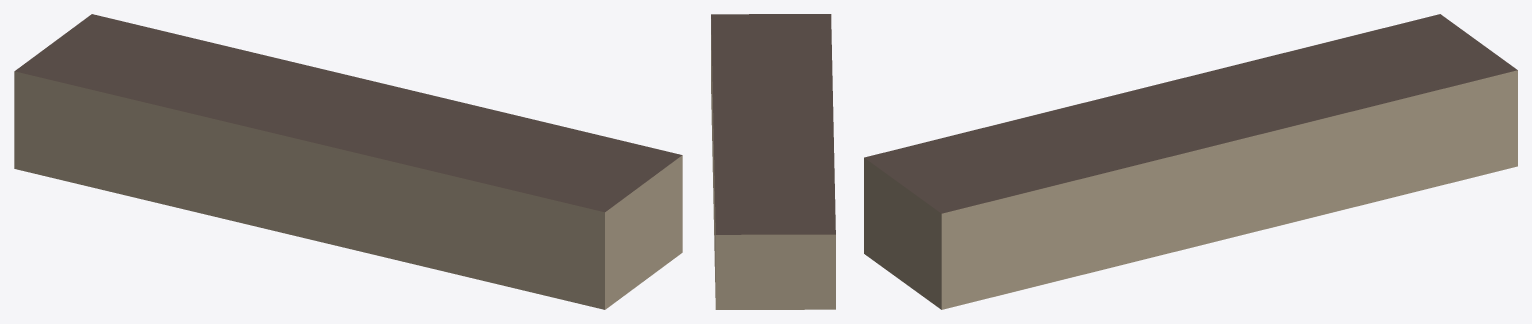
3 views of the same model, side by side, from view 1: azimuth 30°, elevation 25°; view 2: azimuth 150°, elevation 25°; view 3: azimuth 270°, elevation 25° (orthographic). The views are drawn at different scales.
Parts seen in each view (by area): view 1: HP-w369342464; view 2: HP-w369342464; view 3: HP-w369342464.
Boxes of the visible parts, x1,y1,x2,y2 form: HP-w369342464: [14, 14, 682, 309]; HP-w369342464: [711, 14, 835, 309]; HP-w369342464: [864, 14, 1517, 309].
Size of the model in its own units: 40.06 by 9 by 55.41.
